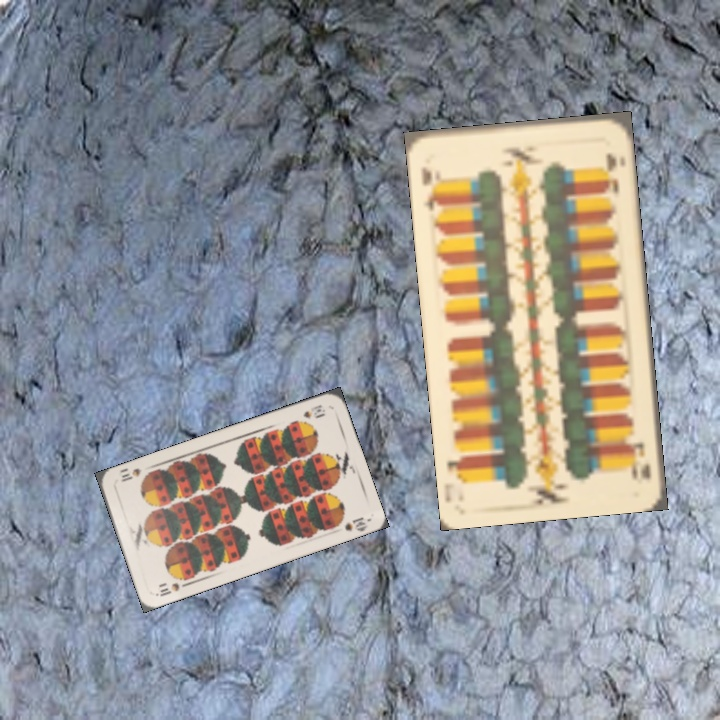E10: (416, 163, 445, 214), (626, 437, 654, 483)
S10: (153, 578, 192, 599), (299, 401, 328, 422)
